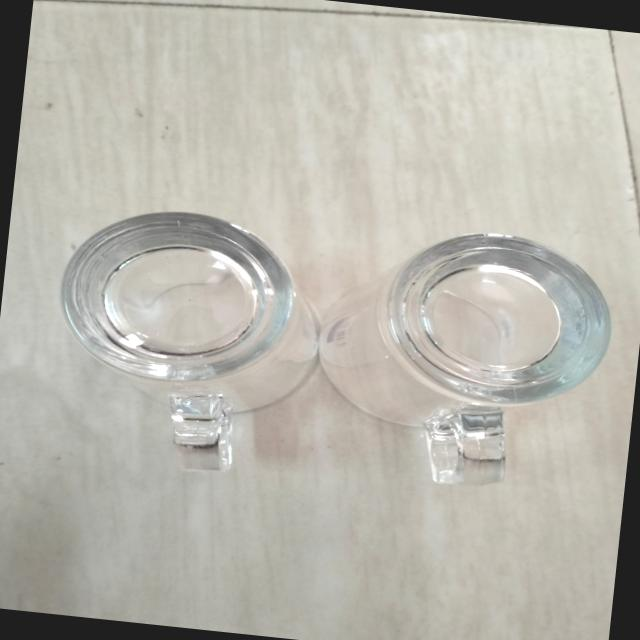glass-VX4N: (313, 213, 622, 494), (38, 193, 328, 480)
